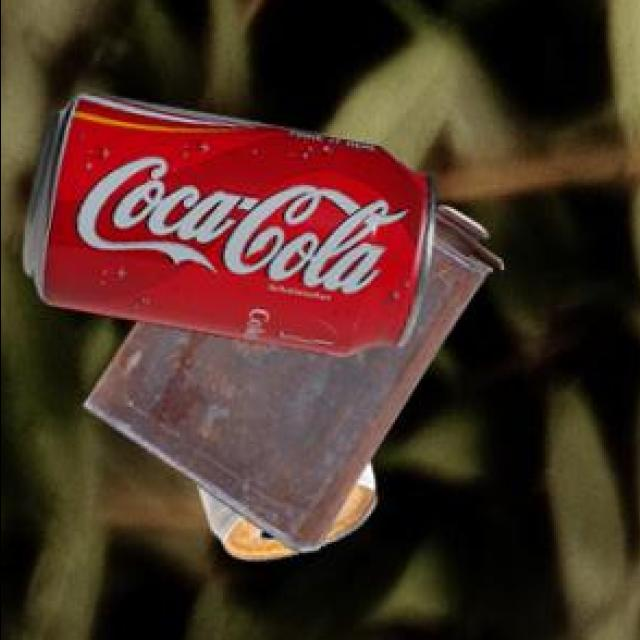logam: (86, 204, 505, 550), (25, 90, 439, 354), (201, 460, 378, 556)
